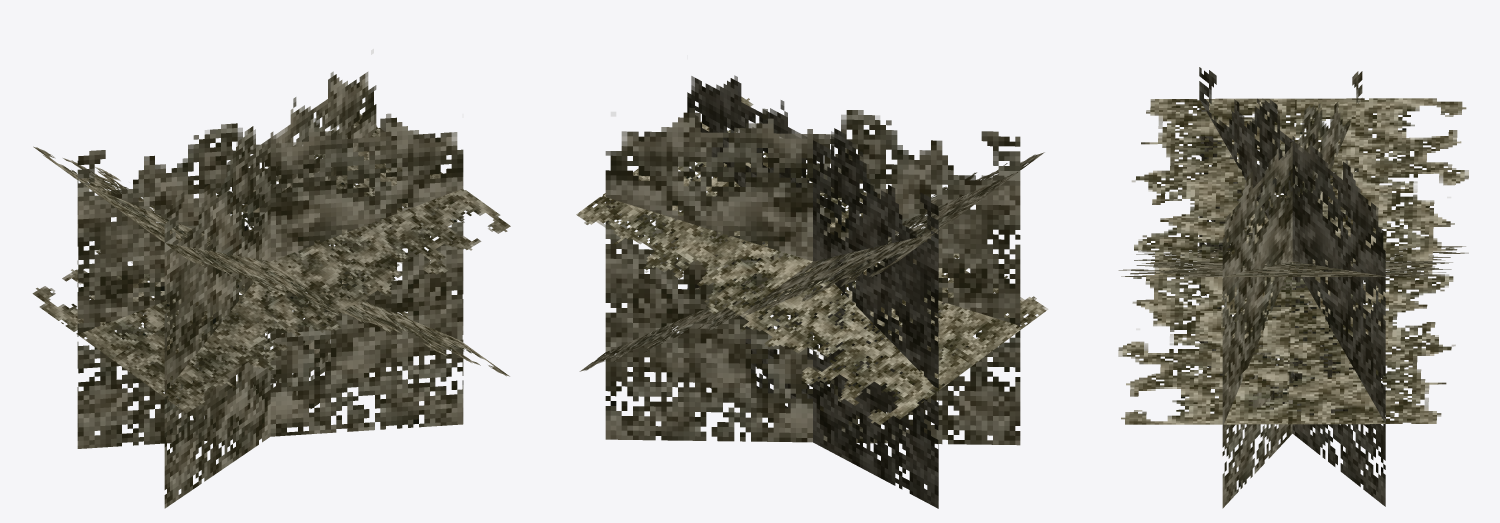
The model's file is bush_full_overgrown_dead.glb.
The picture shows the model from 3 angles, left to right: view 1: azimuth 30°, elevation 25°; view 2: azimuth 150°, elevation 25°; view 3: azimuth 270°, elevation 25°; orthographic projection. The views are drawn at different scales.
Visible parts, largest first — view 1: bush_full_overgrown_dead; view 2: bush_full_overgrown_dead; view 3: bush_full_overgrown_dead.
Part boxes in pixels (x1,y1,x2,y2): bush_full_overgrown_dead: (32,71,510,508); bush_full_overgrown_dead: (576,75,1047,508); bush_full_overgrown_dead: (1118,67,1468,508).
Size of the model in its own units: 1 by 1.06 by 1.08.
1 material, 1 textured.
